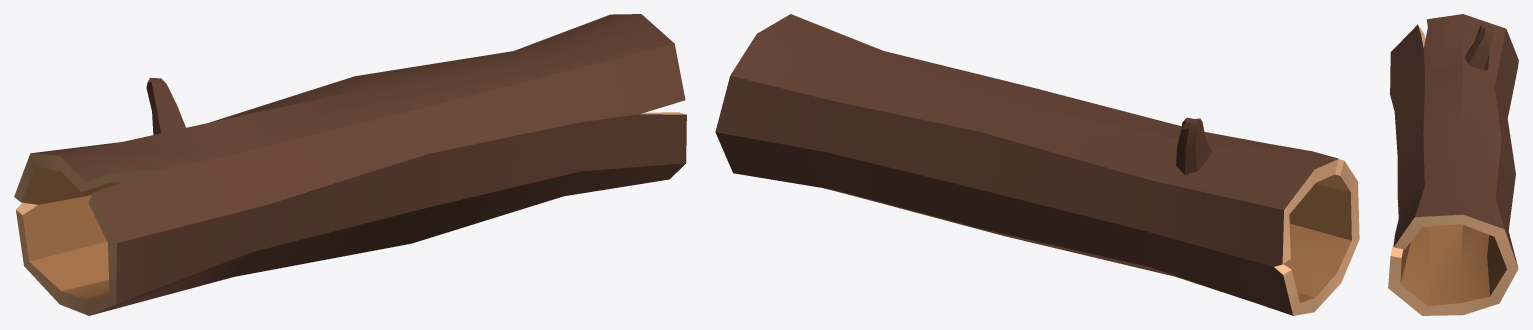
The model's file is Brevno.fbx.
3 renders of one model, left to right at view 1: azimuth 30°, elevation 25°; view 2: azimuth 150°, elevation 25°; view 3: azimuth 270°, elevation 25°, orthographic. The views are drawn at different scales.
Visible parts, largest first — view 1: log; view 2: log; view 3: log.
Boxes of the visible parts, x1=… form: log: x1=14, y1=14, x2=686, y2=315; log: x1=715, y1=14, x2=1359, y2=315; log: x1=1388, y1=14, x2=1518, y2=315.
Bounding box in the file's own units: 210 × 62.91 × 56.65.
